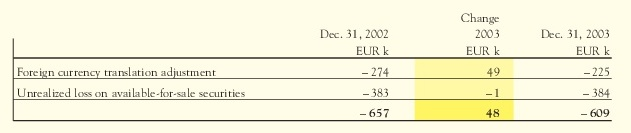table: (0, 0, 631, 133)
